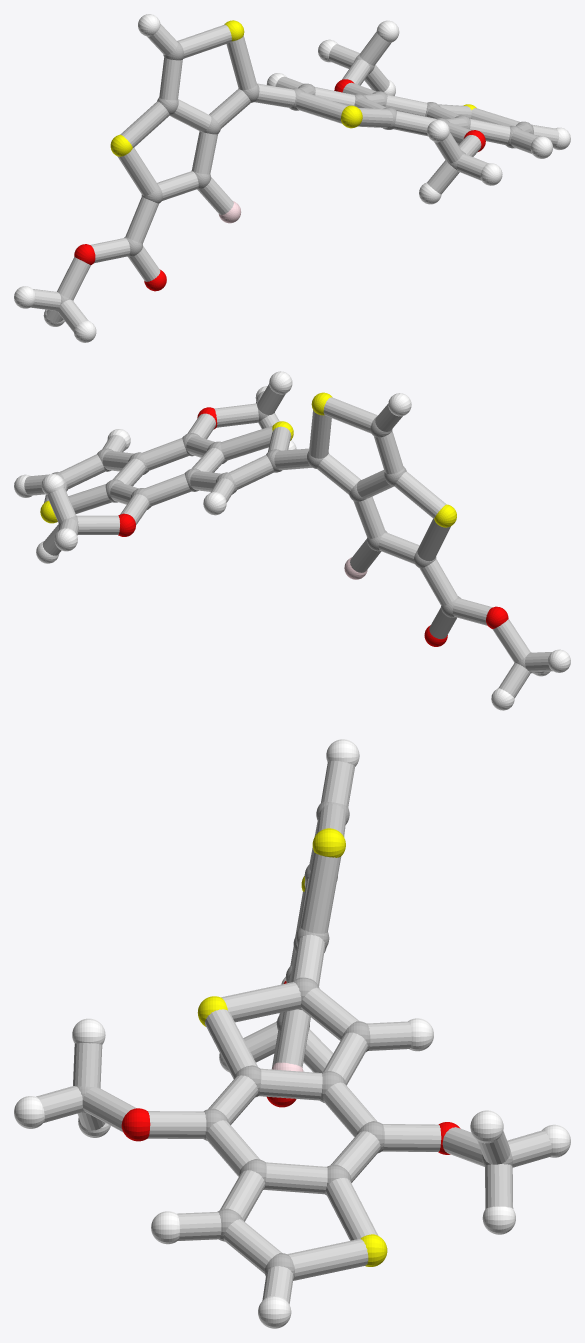
Rendered from color.glb.
3 renders of one model, top to bottom at view 1: azimuth 30°, elevation 25°; view 2: azimuth 150°, elevation 25°; view 3: azimuth 270°, elevation 25°, orthographic. The views are drawn at different scales.
Parts seen in each view (by area): view 1: grp15205, grp8689, grp1, grp7241, grp13395; view 2: grp15205, grp8689, grp1, grp13395, grp7241; view 3: grp15205, grp8689, grp1, grp7241, grp13395.
Boxes of the visible parts, bbox=[...] form: grp15205: bbox=[31, 24, 558, 331]; grp8689: bbox=[14, 14, 570, 342]; grp1: bbox=[55, 41, 533, 312]; grp7241: bbox=[110, 20, 476, 156]; grp13395: bbox=[74, 79, 485, 291]; grp15205: bbox=[24, 384, 552, 698]; grp8689: bbox=[14, 371, 570, 710]; grp1: bbox=[52, 402, 531, 672]; grp13395: bbox=[118, 407, 508, 646]; grp7241: bbox=[40, 392, 456, 527]; grp15205: bbox=[36, 760, 551, 1304]; grp8689: bbox=[14, 739, 570, 1328]; grp1: bbox=[77, 802, 512, 1279]; grp7241: bbox=[197, 828, 387, 1266]; grp13395: bbox=[121, 981, 460, 1154].
Size of the model in its own units: 16.61 by 8.28 by 10.02.
